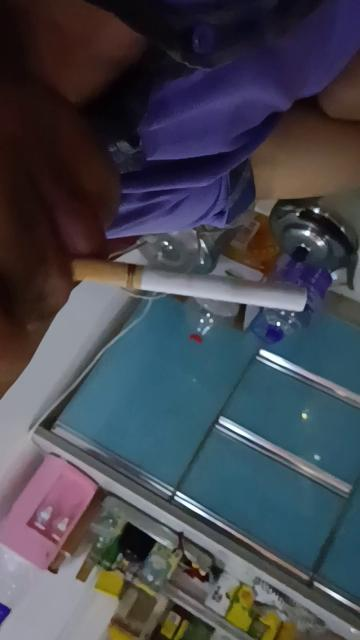Cigarette: (73, 260, 309, 312)
